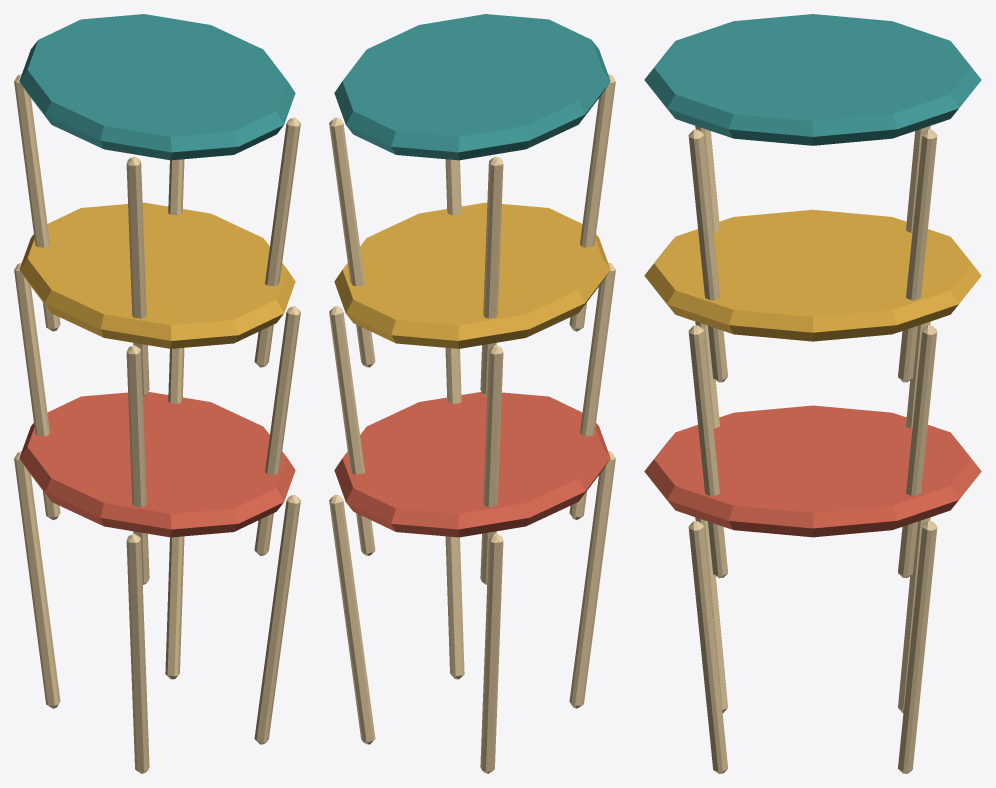
File: stacking_stools.glb
3 renders of one model, left to right at view 1: azimuth 30°, elevation 25°; view 2: azimuth 150°, elevation 25°; view 3: azimuth 270°, elevation 25°, orthographic. The views are drawn at different scales.
Parts seen in each view (by area): view 1: stacking_stools_A, stacking_stools_C, stacking_stools_B; view 2: stacking_stools_A, stacking_stools_C, stacking_stools_B; view 3: stacking_stools_C, stacking_stools_A, stacking_stools_B.
Boxes of the visible parts, x1,y1,x2,y2 form: stacking_stools_A: (14,392,300,773); stacking_stools_C: (14,14,300,396); stacking_stools_B: (14,202,300,584); stacking_stools_A: (329,392,615,773); stacking_stools_C: (329,14,615,396); stacking_stools_B: (329,202,615,584); stacking_stools_C: (644,14,981,382); stacking_stools_A: (644,405,981,773); stacking_stools_B: (644,209,981,578).
Bounding box in the file's own units: 0.4 × 1.1 × 0.5.
